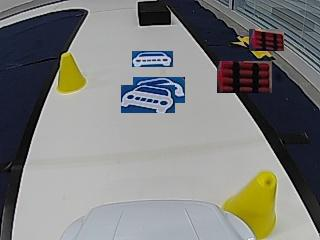block: (138, 1, 170, 25)
cone: (239, 173, 276, 235), (57, 53, 87, 94)
